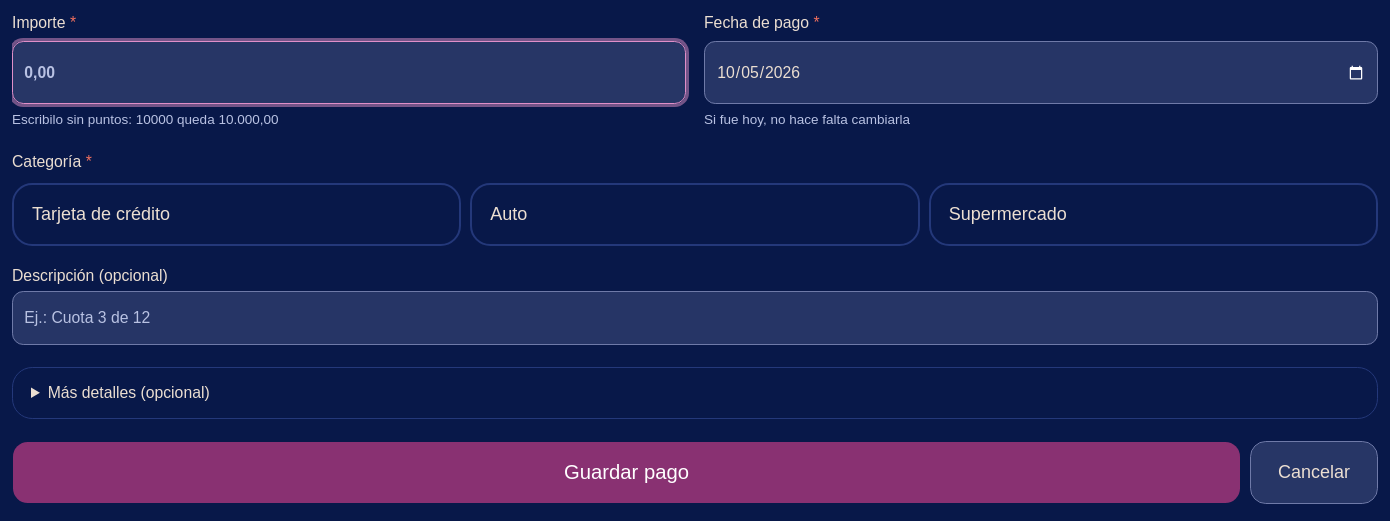
Test: Formulario de pago › agrega los puntos de miles mientras se escribe y completa los decimales
In the field labelled "Importe": (349, 73) 12,41 -> 686,104, type "10000"
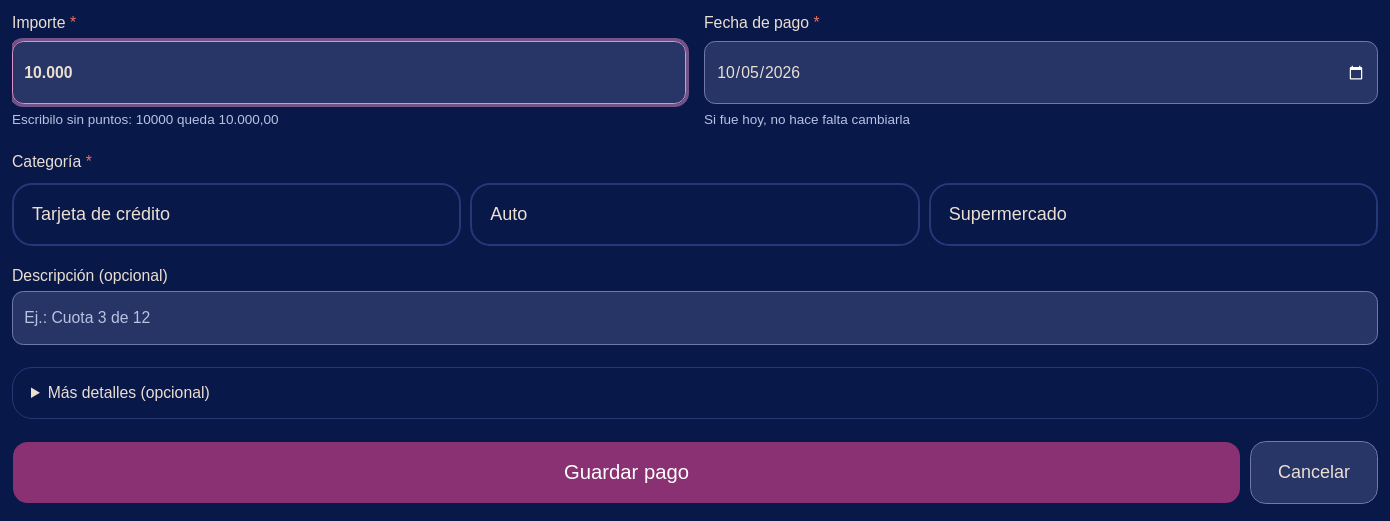
Result: the field labelled "Importe" holds "10.000" at 12,41 -> 686,104
Press Tab
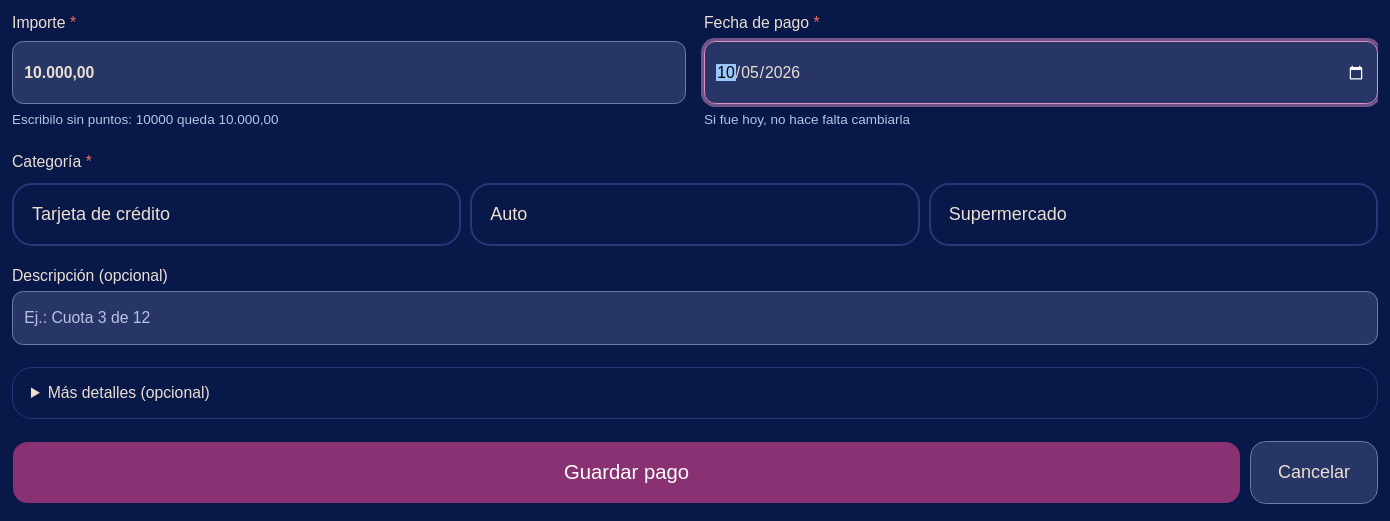
Result: the field labelled "Importe" holds "10.000,00"
Replace the text in the field labelled "Importe" with "12,345": (349, 73) 12,41 -> 686,104
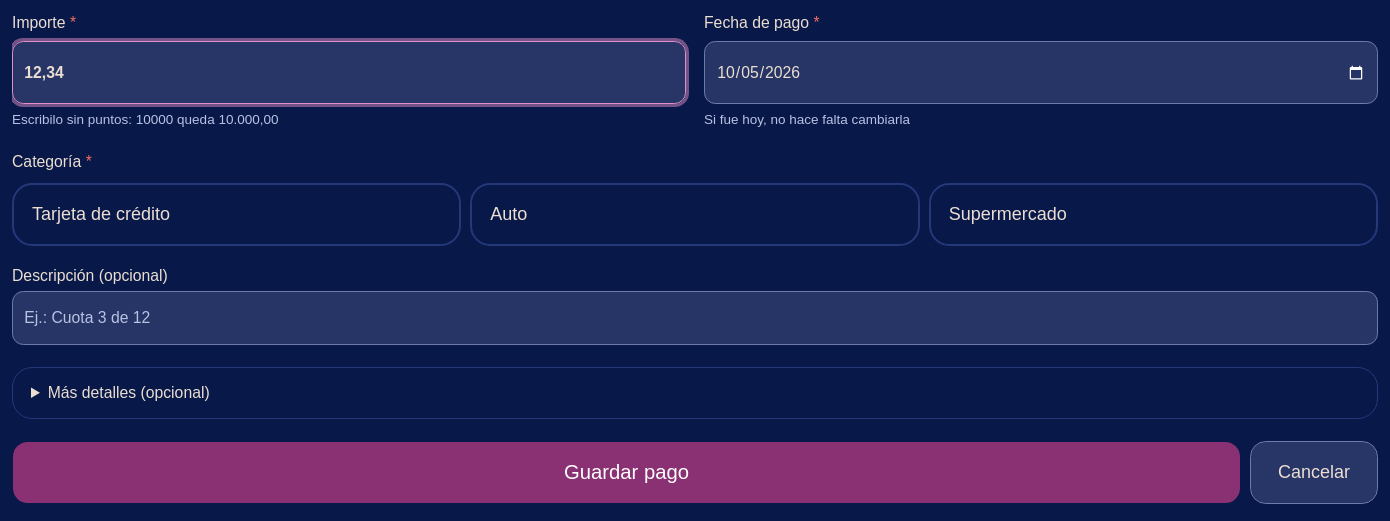
Result: the field labelled "Importe" holds "12,34" at 12,41 -> 686,104
